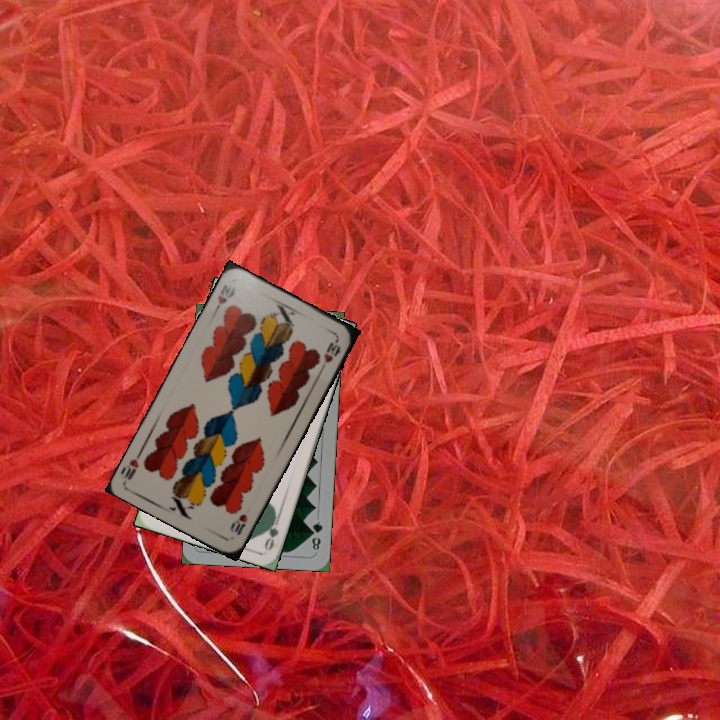G8: (307, 518, 325, 553)
GO: (260, 511, 282, 552)
H10: (210, 280, 238, 317), (226, 510, 250, 538)
